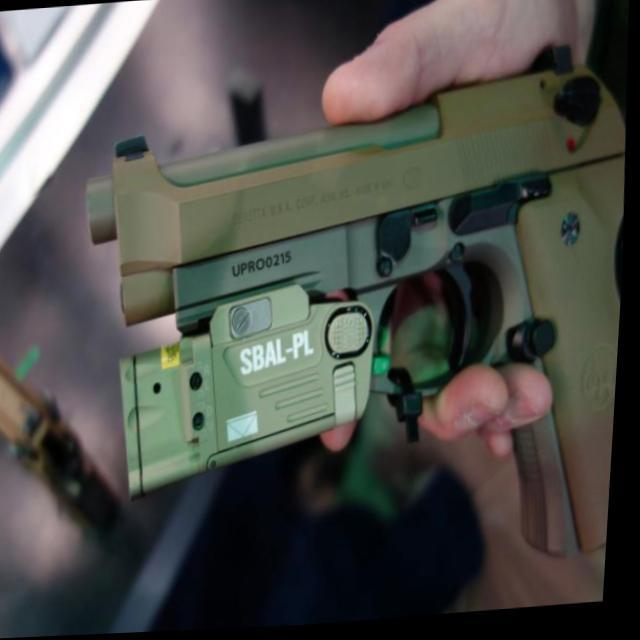weapon: (63, 42, 637, 596)
